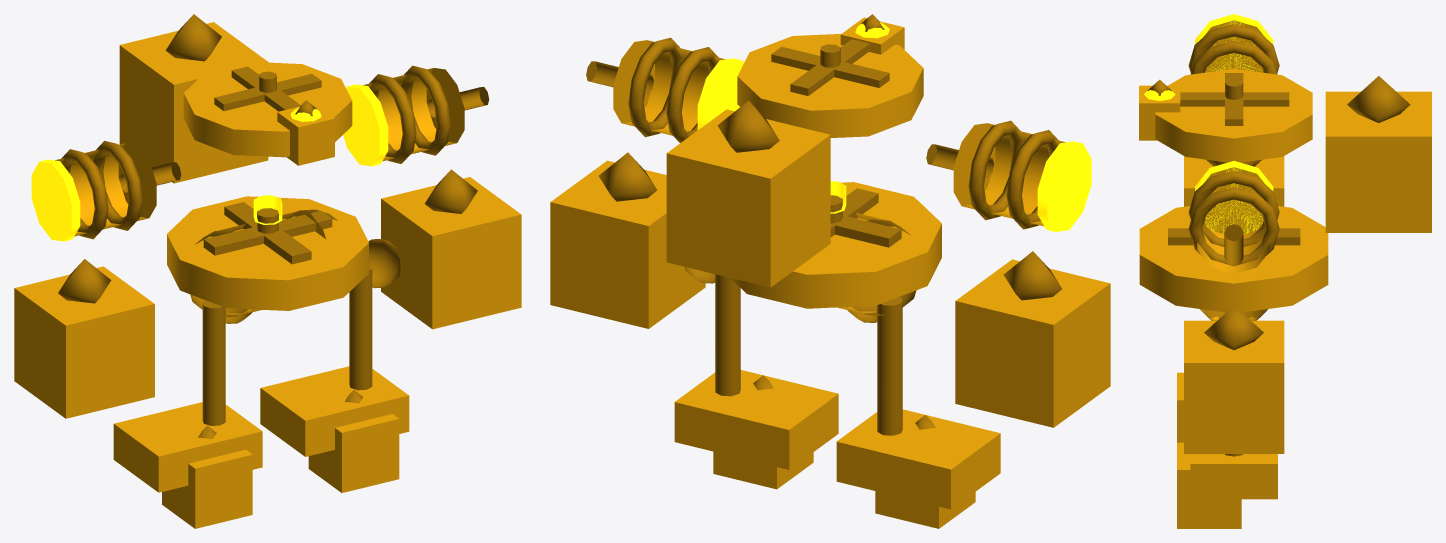
File: golem_045.glb
3 views of the same model, side by side, from view 1: azimuth 30°, elevation 25°; view 2: azimuth 150°, elevation 25°; view 3: azimuth 270°, elevation 25° (orthographic). The views are drawn at different scales.
Visible parts, largest first — view 1: Body, Detail, Glow; view 2: Body, Detail, Glow; view 3: Body, Detail, Glow.
Boxes of the visible parts, x1,y1,x2,y2 form: Body: [14, 22, 521, 528]; Detail: [58, 14, 489, 450]; Glow: [31, 84, 388, 241]; Body: [550, 17, 1110, 528]; Detail: [586, 14, 1061, 435]; Glow: [697, 21, 1091, 231]; Body: [1139, 20, 1431, 528]; Detail: [1147, 24, 1410, 456]; Glow: [1144, 14, 1273, 233].
Size of the model in its own units: 1.21 by 1.05 by 0.6873.
